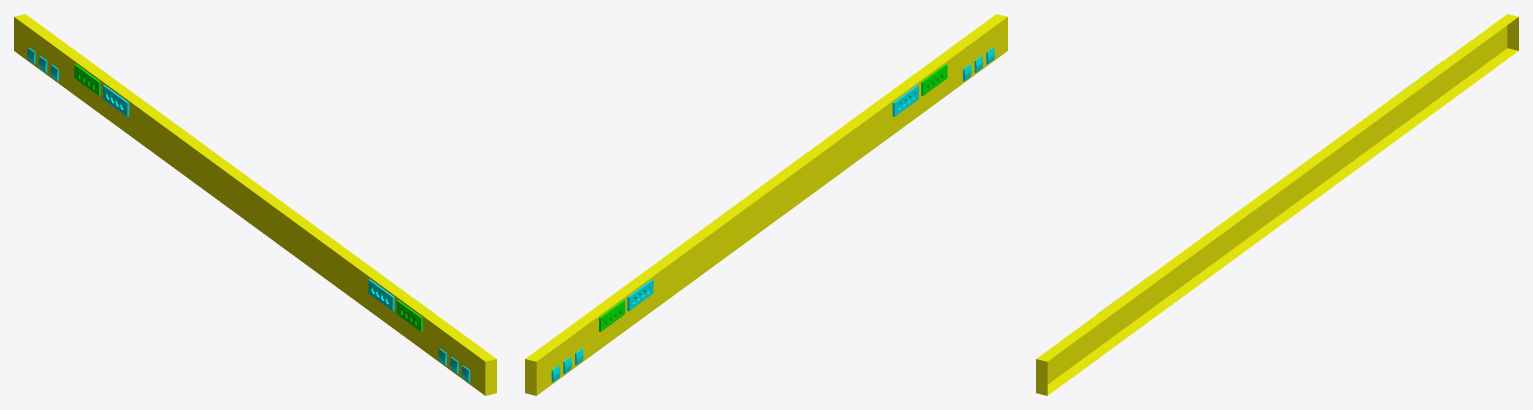
Rendered from Enchufe.fbx.
3 renders of one model, left to right at view 1: azimuth 30°, elevation 25°; view 2: azimuth 150°, elevation 25°; view 3: azimuth 330°, elevation 25°, orthographic.
Visible parts, largest first — view 1: pCube1, polySurface67, polySurface68, polySurface69.001, polySurface70; view 2: pCube1, polySurface67, polySurface68, polySurface69.001, polySurface70; view 3: pCube1.
Part boxes in pixels (left/top/right/bottom): pCube1: left=14, top=14, right=496, bottom=395; polySurface67: left=368, top=279, right=394, bottom=310; polySurface68: left=103, top=85, right=129, bottom=116; polySurface69.001: left=396, top=300, right=422, bottom=331; polySurface70: left=74, top=64, right=100, bottom=95; pCube1: left=525, top=14, right=1007, bottom=395; polySurface67: left=892, top=85, right=918, bottom=116; polySurface68: left=627, top=279, right=653, bottom=310; polySurface69.001: left=921, top=64, right=947, bottom=95; polySurface70: left=599, top=300, right=625, bottom=331; pCube1: left=1036, top=14, right=1518, bottom=395.
Bounding box in the file's own units: 0.0832 × 0.2 × 5.
